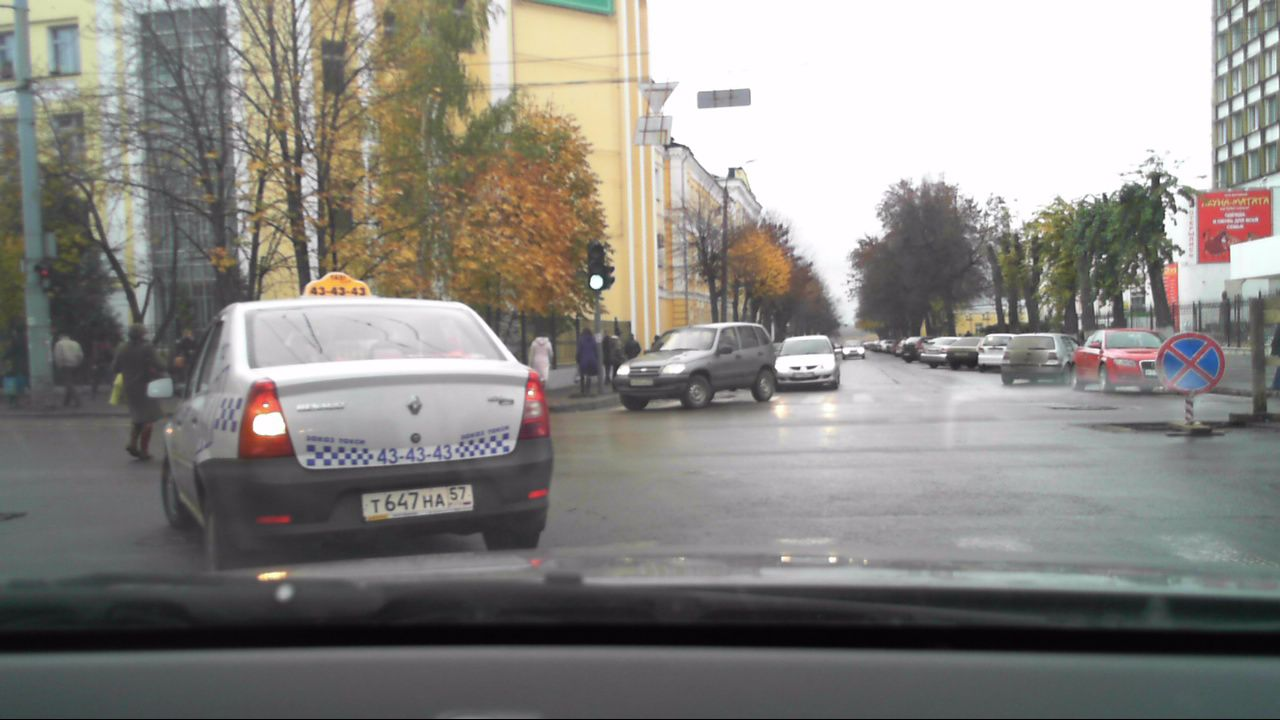No Parking: (1153, 330, 1227, 397)
